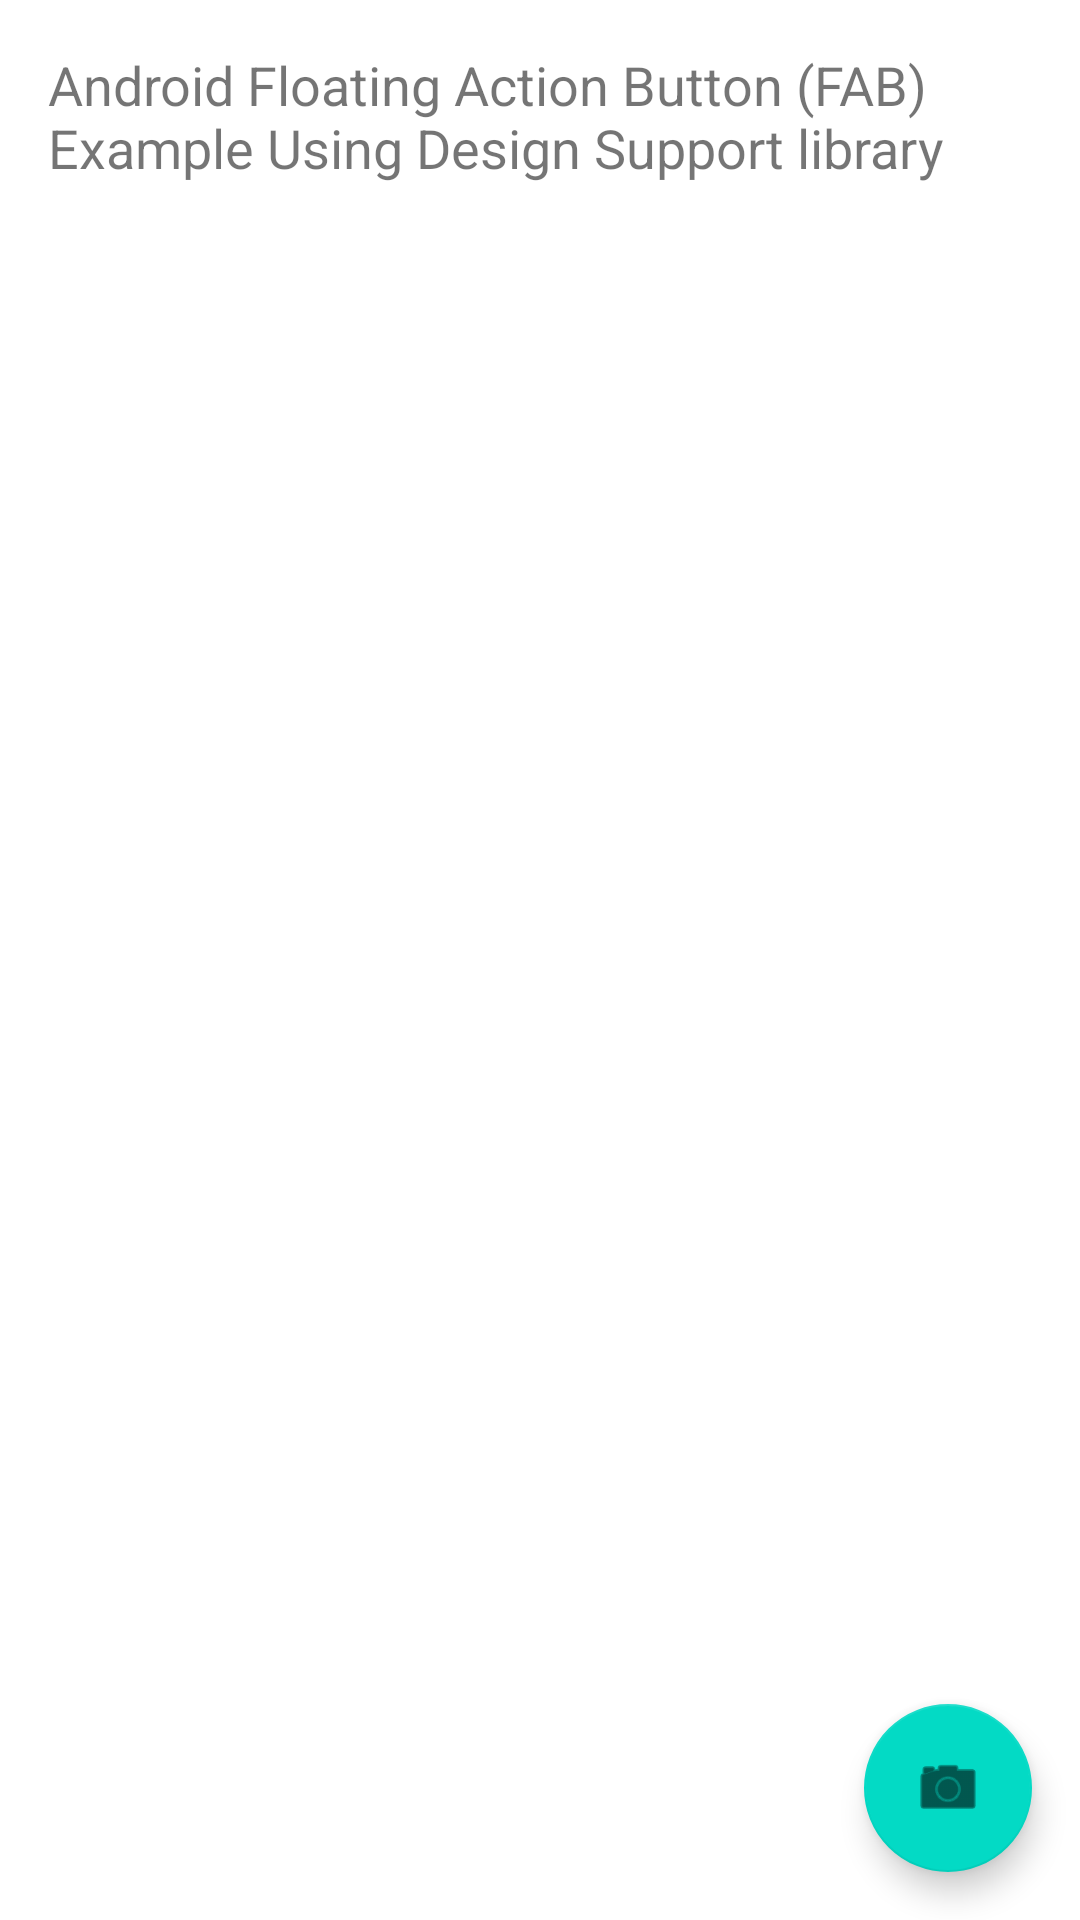

Screen size 1080px×1920px. Icon name, then its box in pixels as (x1, y1, x2, y2):
camera: (864, 1704, 1032, 1872)
